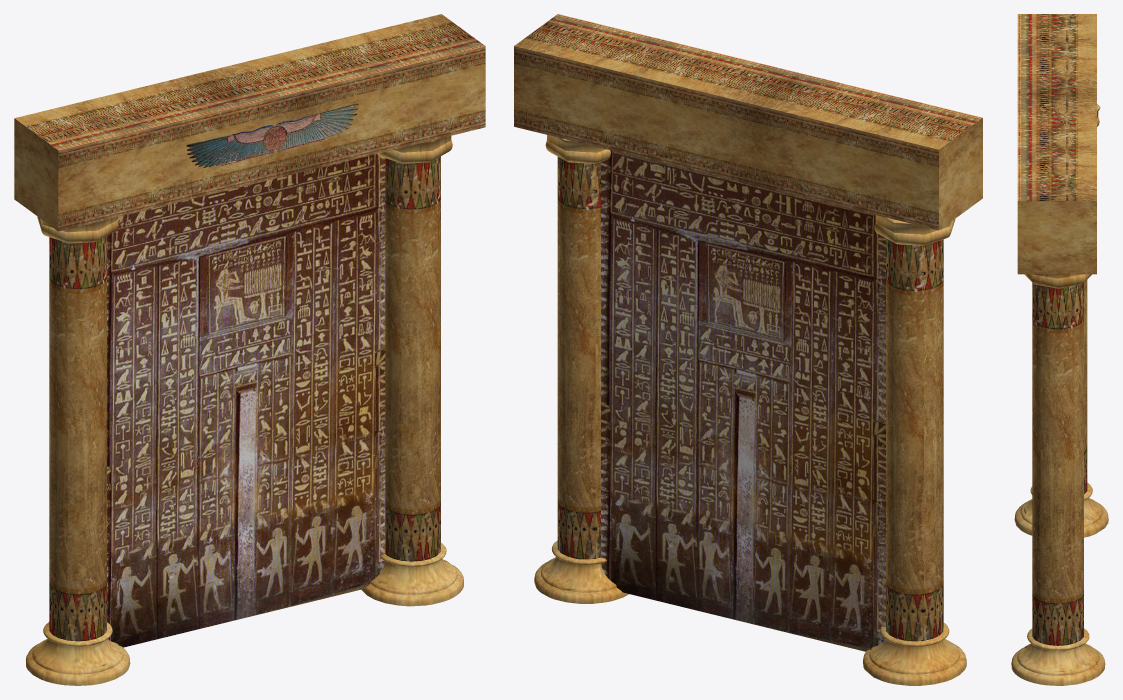
The model's file is Door.FBX.
3 renders of one model, left to right at view 1: azimuth 30°, elevation 25°; view 2: azimuth 150°, elevation 25°; view 3: azimuth 270°, elevation 25°, orthographic. The views are drawn at different scales.
Parts seen in each view (by area): view 1: Door Menhup, door columns; view 2: Door Menhup, door columns; view 3: door columns.
Boxes of the visible parts, x1,y1,x2,y2 form: Door Menhup: (107,154,385,647); door columns: (14,14,485,685); Door Menhup: (601,150,885,651); door columns: (514,14,982,685); door columns: (1011,14,1108,685).
Size of the model in its own units: 3713 by 4488 by 812.
Materials: 3 (3 with a texture image).
